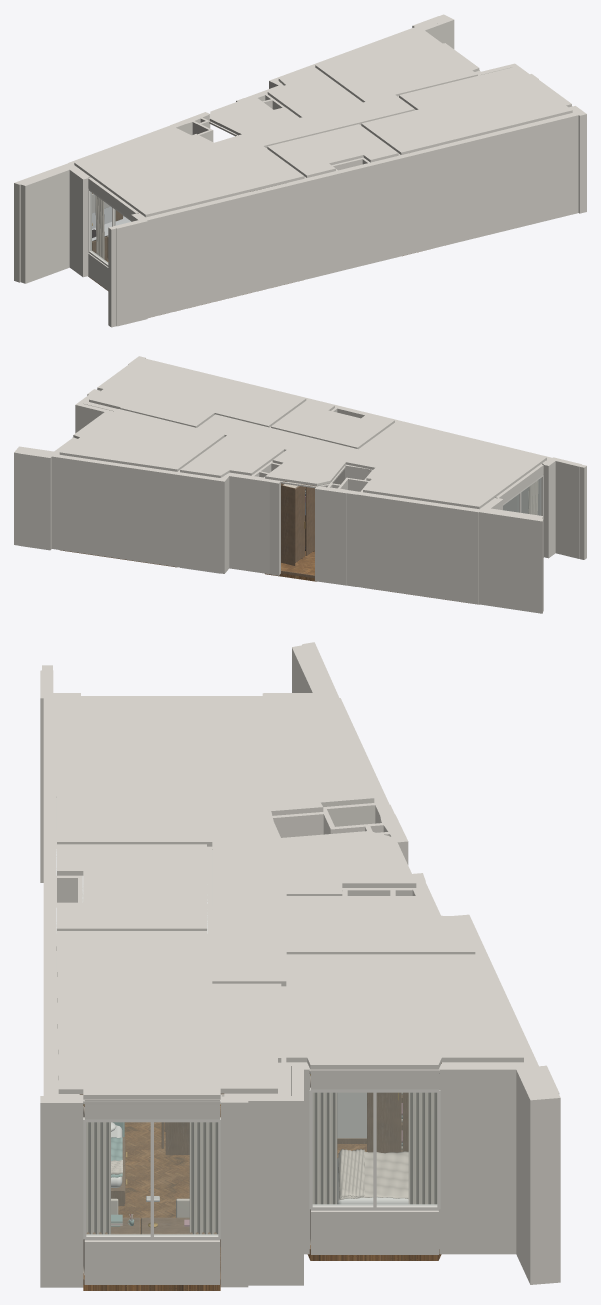
The model's file is SOBYTIE_B.glb.
3 views of the same model, one above another, from view 1: azimuth 30°, elevation 25°; view 2: azimuth 150°, elevation 25°; view 3: azimuth 270°, elevation 25° (orthographic). The views are drawn at different scales.
Parts seen in each view (by area): view 1: Wall_34, Ceiling_kitchen, Wall_13, Ceiling_lower, Wall_12, Ceiling_upper, Ceiling_corridor, Wall_43, Wall_30, Wall_31, Ceiling_bath65, Wall_4 (+10 smaller); view 2: Wall_20, Wall_49, Ceiling_kitchen, Ceiling_lower, Ceiling_upper, Wall_3, Ceiling_corridor, Wall_32, Ceiling_bath65, Wall_29, Wall_64, Ceiling_bath5 (+16 smaller); view 3: Ceiling_kitchen, Ceiling_lower, Ceiling_upper, Ceiling_corridor, Wall_36, Window_glass_lower, Window_glass_upper, Ceiling_bath65, Wall_38, Ceiling_bath5, Wall_69, Wall_window_sill_lower (+32 smaller).
Part boxes in pixels (x1,y1,x2,y2): Wall_34: (403, 113, 578, 254); Ceiling_kitchen: (74, 126, 304, 217); Wall_13: (286, 155, 406, 283); Ceiling_lower: (361, 68, 572, 154); Wall_12: (180, 192, 253, 309); Ceiling_upper: (315, 28, 479, 102); Ceiling_corridor: (209, 94, 414, 147); Wall_43: (20, 167, 69, 283); Wall_30: (143, 209, 183, 317); Wall_31: (250, 183, 289, 292); Ceiling_bath65: (267, 124, 398, 177); Wall_4: (115, 219, 147, 326); Wall_20: (51, 455, 220, 572); Wall_49: (330, 488, 477, 604); Ceiling_kitchen: (346, 421, 546, 509); Ceiling_lower: (89, 359, 306, 427); Ceiling_upper: (59, 409, 224, 471); Wall_3: (479, 509, 543, 613); Ceiling_corridor: (197, 414, 357, 485); Wall_32: (226, 472, 271, 574); Ceiling_bath65: (271, 399, 394, 449); Wall_29: (19, 449, 59, 550); Wall_64: (315, 486, 351, 585); Ceiling_bath5: (180, 435, 284, 477); Ceiling_kitchen: (57, 696, 374, 846); Ceiling_lower: (56, 931, 281, 1099); Ceiling_upper: (286, 954, 523, 1069); Ceiling_corridor: (212, 831, 416, 986); Wall_36: (439, 1064, 527, 1254); Window_glass_lower: (86, 1122, 217, 1235); Window_glass_upper: (313, 1093, 436, 1205); Ceiling_bath65: (57, 844, 206, 930); Wall_38: (247, 1096, 303, 1285); Ceiling_bath5: (286, 896, 475, 954); Wall_69: (40, 1094, 83, 1287); Wall_window_sill_lower: (84, 1240, 219, 1284).
Size of the model in its own units: 16.58 by 3.29 by 7.92.
Materials: 23 (3 with a texture image).
